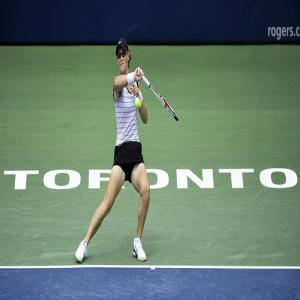TennisBall: (137, 97, 143, 110)
